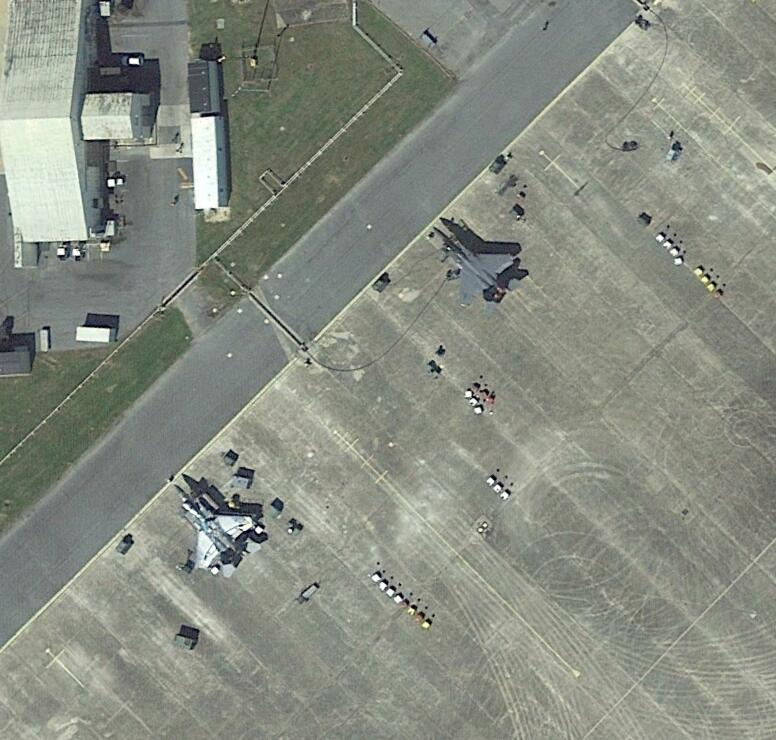A13: (168, 480, 262, 580), (428, 223, 523, 314)
